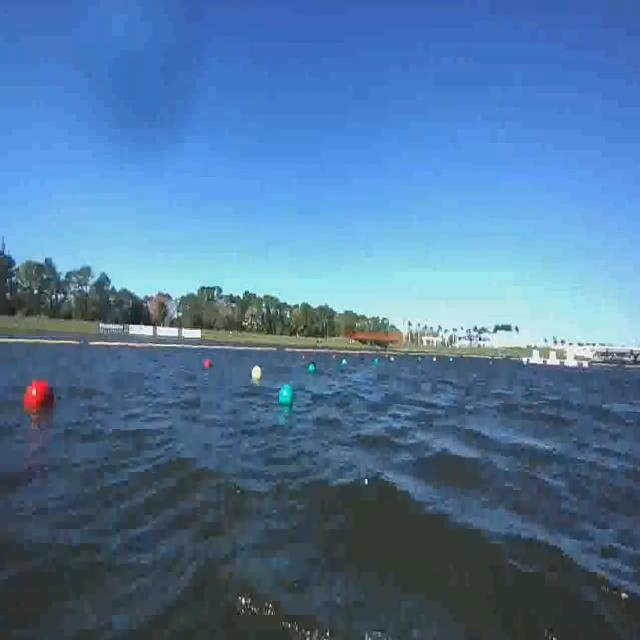green-buoy: (279, 383, 295, 406), (308, 362, 316, 375), (372, 357, 378, 366)
red-buoy: (25, 381, 57, 415), (204, 355, 212, 372)
yellow-buoy: (252, 365, 262, 379)
